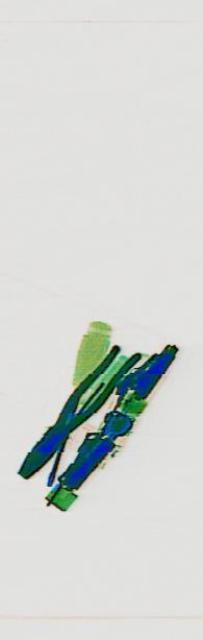Pliers: (14, 314, 139, 501)
